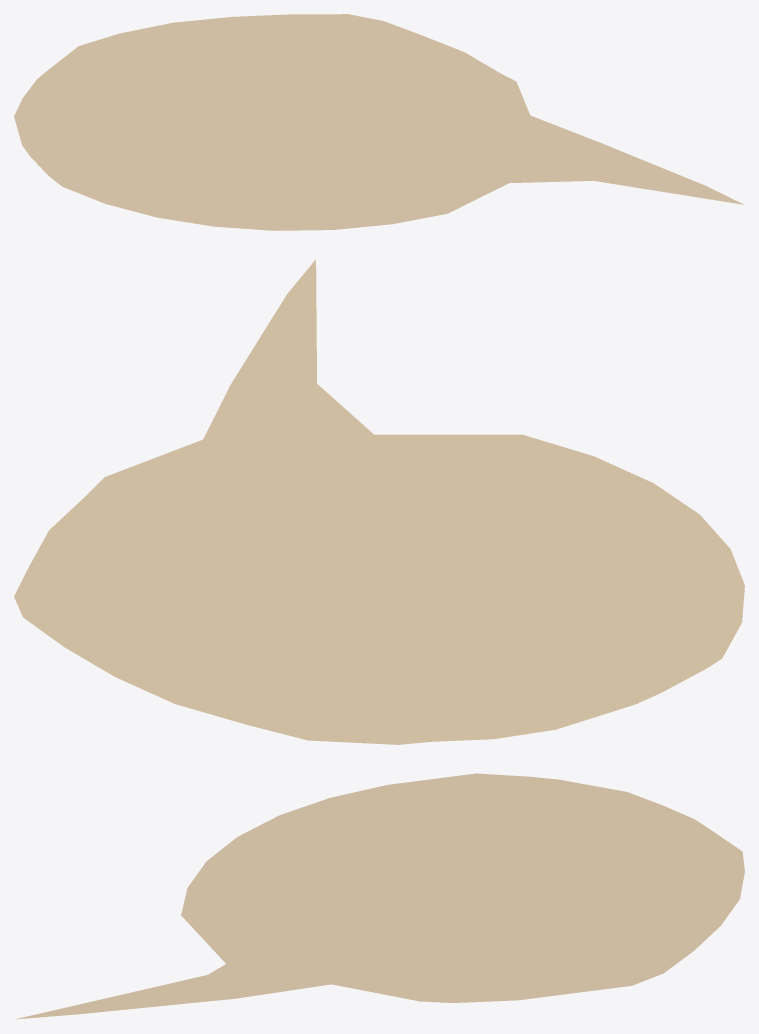
Rendered from speechbubble.fbx.
The picture shows the model from 3 angles, top to bottom: view 1: azimuth 30°, elevation 25°; view 2: azimuth 150°, elevation 25°; view 3: azimuth 270°, elevation 25°; orthographic projection. The views are drawn at different scales.
Visible parts, largest first — view 1: Circle; view 2: Circle; view 3: Circle.
Part boxes in pixels (x1,y1,x2,y2): Circle: (14, 14, 744, 230); Circle: (14, 259, 744, 744); Circle: (16, 773, 744, 1019).
Size of the model in its own units: 244 by 7.76 by 294.
